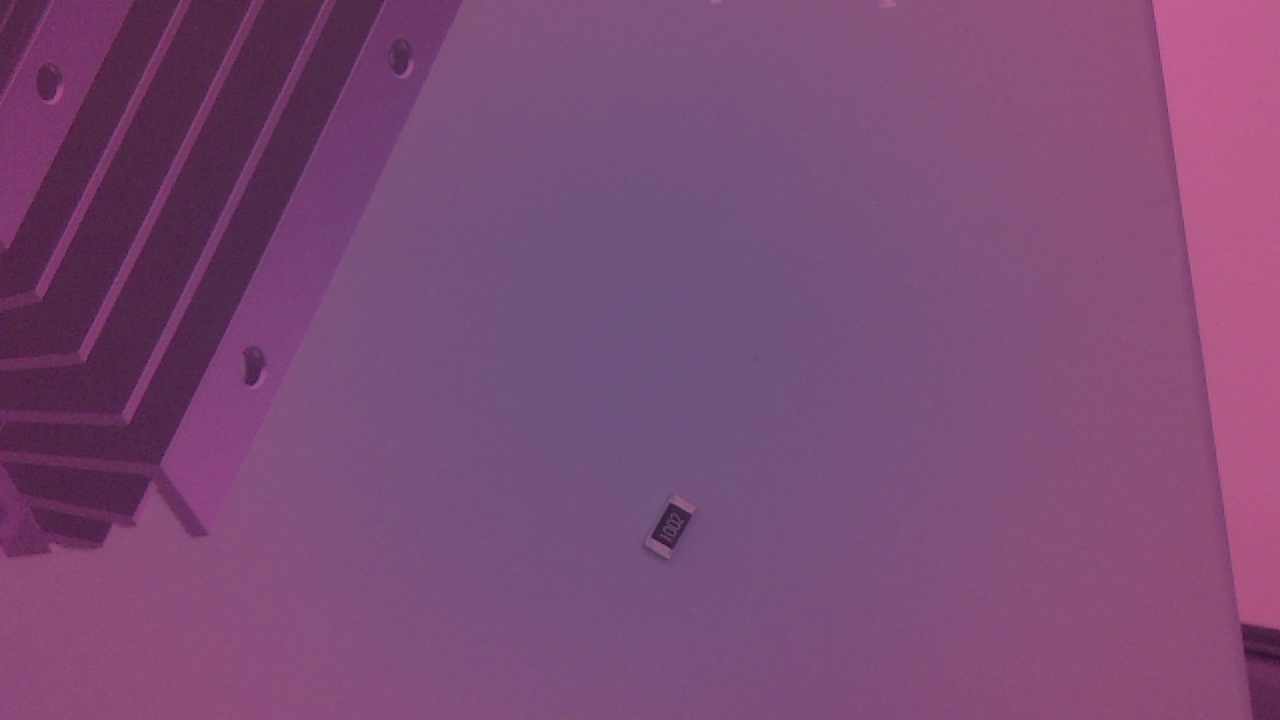Resistor: (634, 495, 714, 569)
